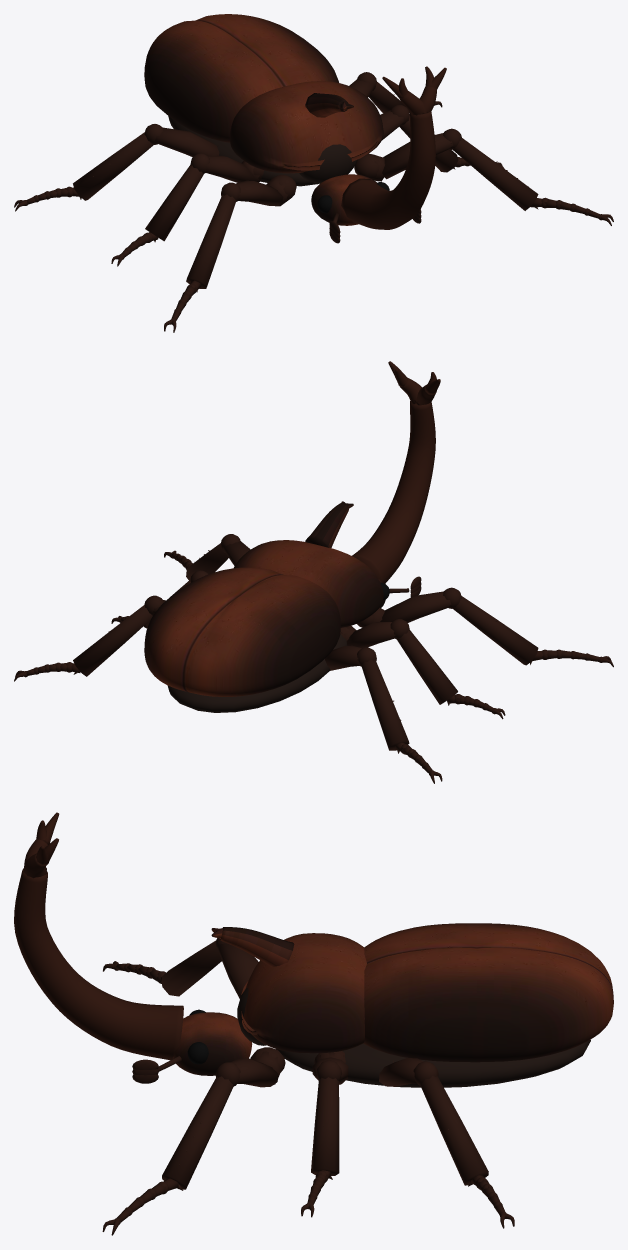
The model's file is bug_kabuto.glb.
3 renders of one model, top to bottom at view 1: azimuth 30°, elevation 25°; view 2: azimuth 150°, elevation 25°; view 3: azimuth 270°, elevation 25°, orthographic. The views are drawn at different scales.
Visible parts, largest first — view 1: shell, pronotum, horn_mesh, leg_0_L_mesh, leg_0_R_mesh, leg_2_R_mesh, leg_1_R_mesh, under, head_shell, leg_1_L_mesh, leg_2_L_mesh; view 2: shell, pronotum, horn_mesh, leg_0_R_mesh, leg_1_R_mesh, leg_2_R_mesh, under, leg_2_L_mesh, leg_0_L_mesh; view 3: shell, pronotum, horn_mesh, under, leg_0_L_mesh, leg_2_L_mesh, leg_1_L_mesh, leg_0_R_mesh, head_shell, ant_L_mesh.
Part boxes in pixels (x1,y1,x2,y2): shell: [144, 14, 338, 142]; pronotum: [229, 81, 383, 173]; horn_mesh: [341, 66, 446, 229]; leg_0_L_mesh: [354, 128, 613, 225]; leg_0_R_mesh: [164, 175, 296, 332]; leg_2_R_mesh: [14, 124, 225, 211]; leg_1_R_mesh: [111, 153, 264, 266]; under: [168, 116, 357, 186]; head_shell: [311, 174, 377, 225]; leg_1_L_mesh: [380, 105, 504, 172]; leg_2_L_mesh: [349, 72, 442, 113]; shell: [144, 567, 340, 696]; pronotum: [234, 501, 383, 627]; horn_mesh: [352, 361, 440, 583]; leg_0_R_mesh: [357, 587, 613, 667]; leg_1_R_mesh: [340, 619, 505, 719]; leg_2_R_mesh: [325, 645, 442, 783]; under: [168, 634, 347, 712]; leg_2_L_mesh: [14, 595, 165, 681]; leg_0_L_mesh: [164, 534, 250, 580]; shell: [363, 923, 613, 1062]; pronotum: [211, 927, 366, 1053]; horn_mesh: [14, 812, 183, 1060]; under: [237, 988, 590, 1087]; leg_0_L_mesh: [102, 1047, 285, 1235]; leg_2_L_mesh: [379, 1054, 514, 1228]; leg_1_L_mesh: [301, 1051, 348, 1217]; leg_0_R_mesh: [103, 938, 258, 998]; head_shell: [172, 1012, 252, 1075]; ant_L_mesh: [132, 1056, 181, 1083].
Bounding box in the file's own units: 1.66 × 0.7905 × 1.58.
Materials: 6 (2 with a texture image).
